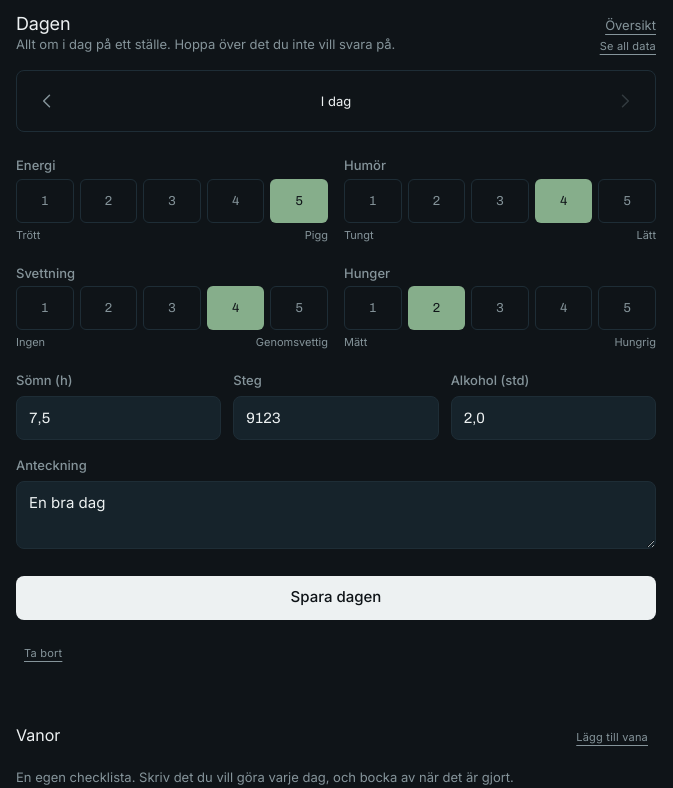
Test case: changing the day on Dagen › fills the form again on the way back
This screenshot has width=673, height=788.
Expected: the field labelled "Steg" holds "9123", [233, 396, 439, 440]
Click the button with test id "date-back": [47, 101] box [25, 79, 69, 123]
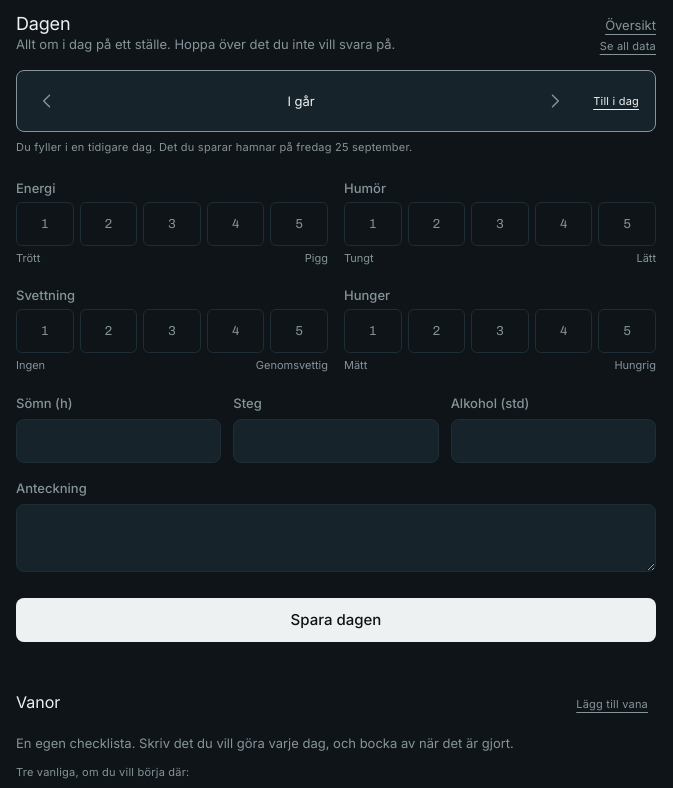
Result: the field labelled "Steg" is empty at [233, 419, 439, 463]
Click the button with test id "date-forward": [555, 101] box [533, 79, 577, 123]
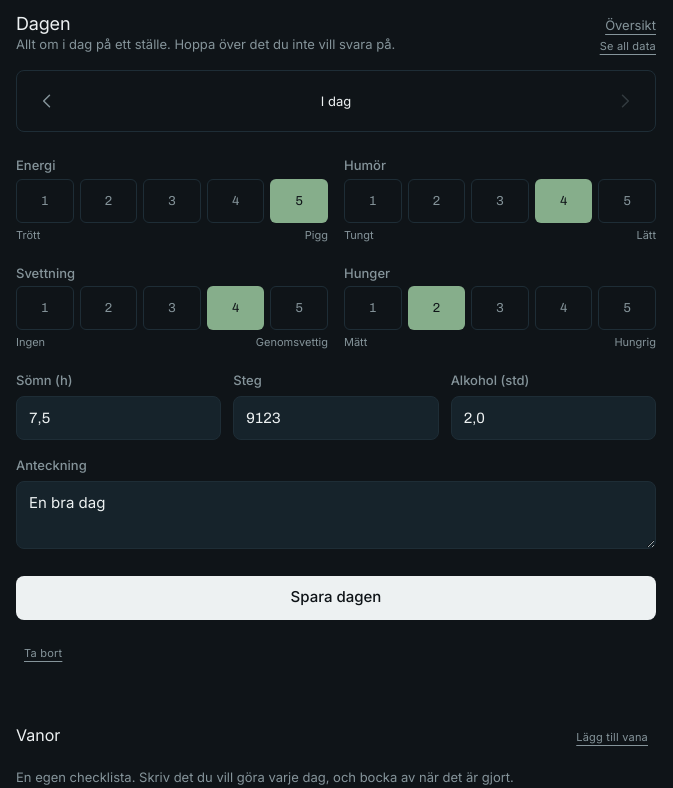
Result: the field labelled "Steg" holds "9123" at [233, 396, 439, 440]
